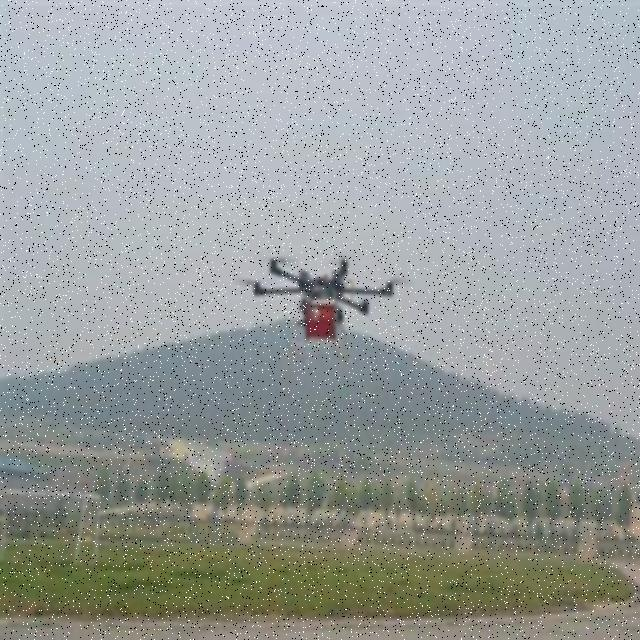UAV: (251, 248, 396, 370)
